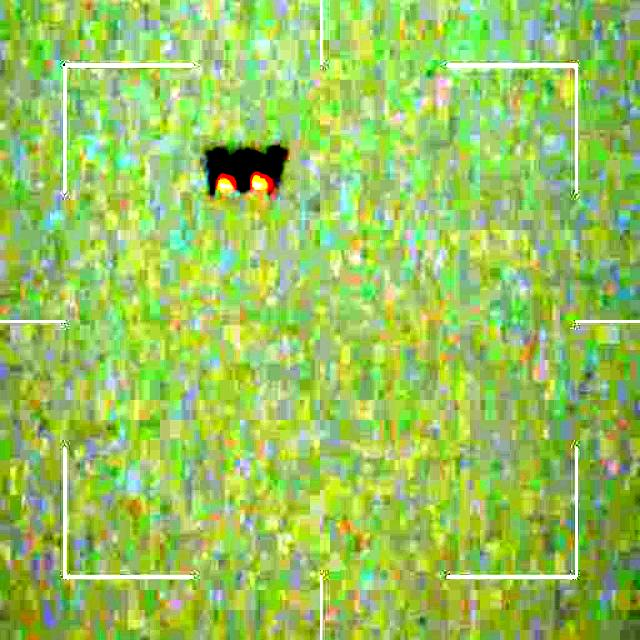bird: (204, 145, 290, 191)
